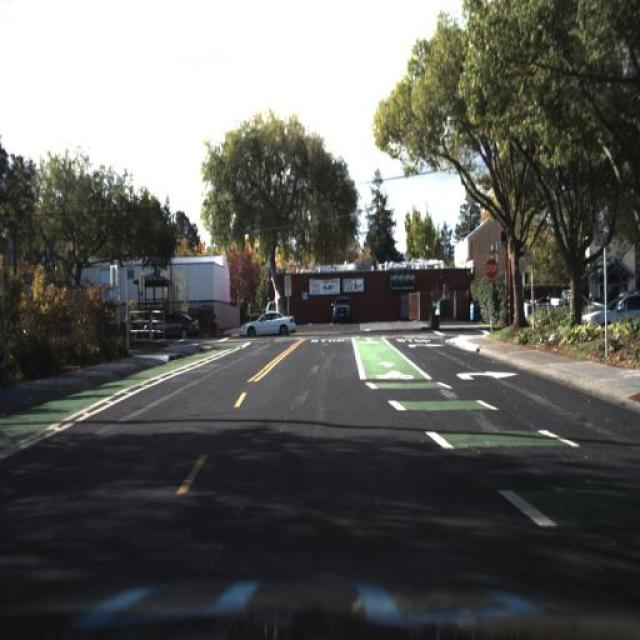car: (522, 280, 603, 328), (236, 306, 296, 342), (146, 305, 202, 340), (329, 292, 357, 326)
